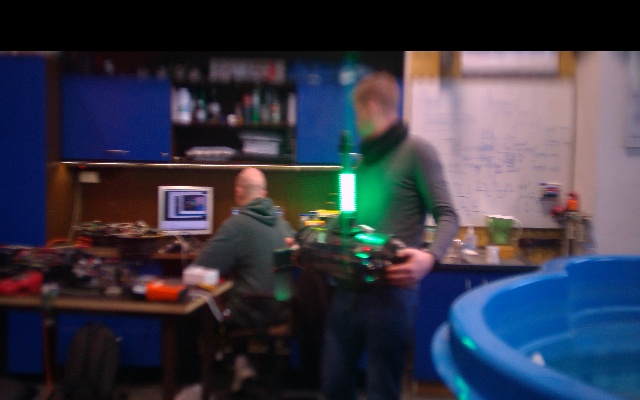green: (338, 172, 355, 217)
